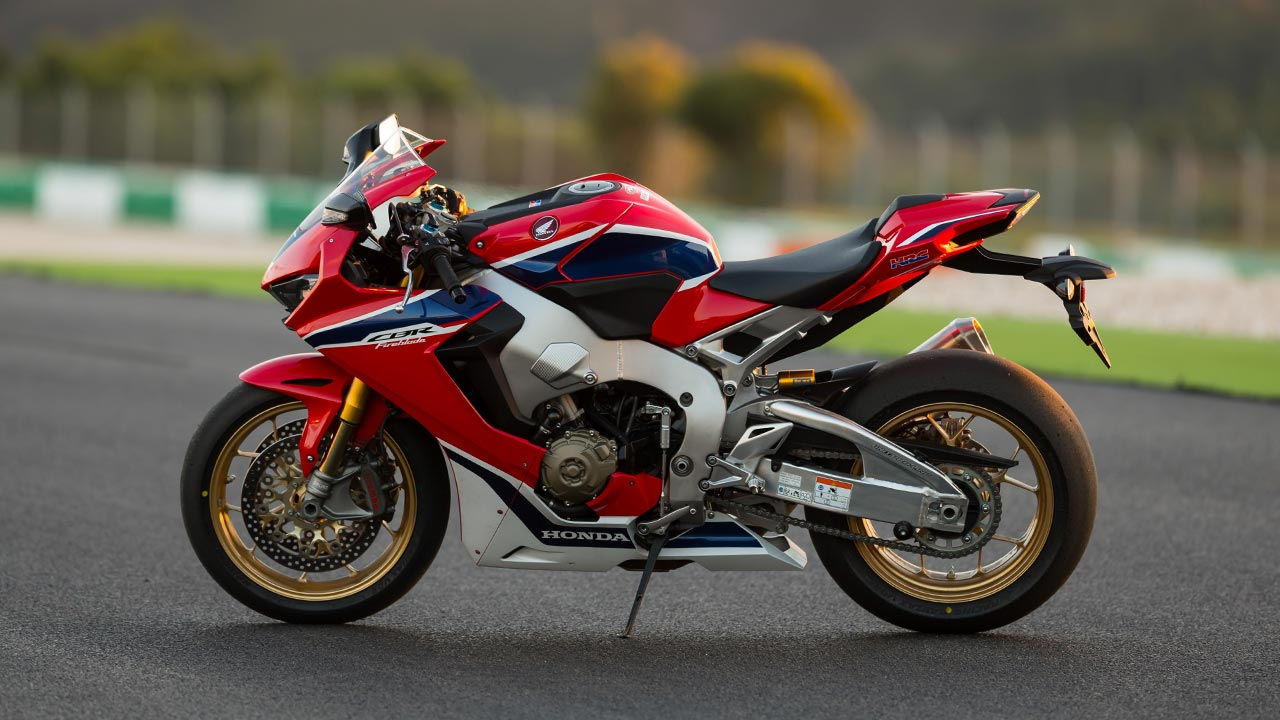motorcycle: (177, 115, 1117, 632)
